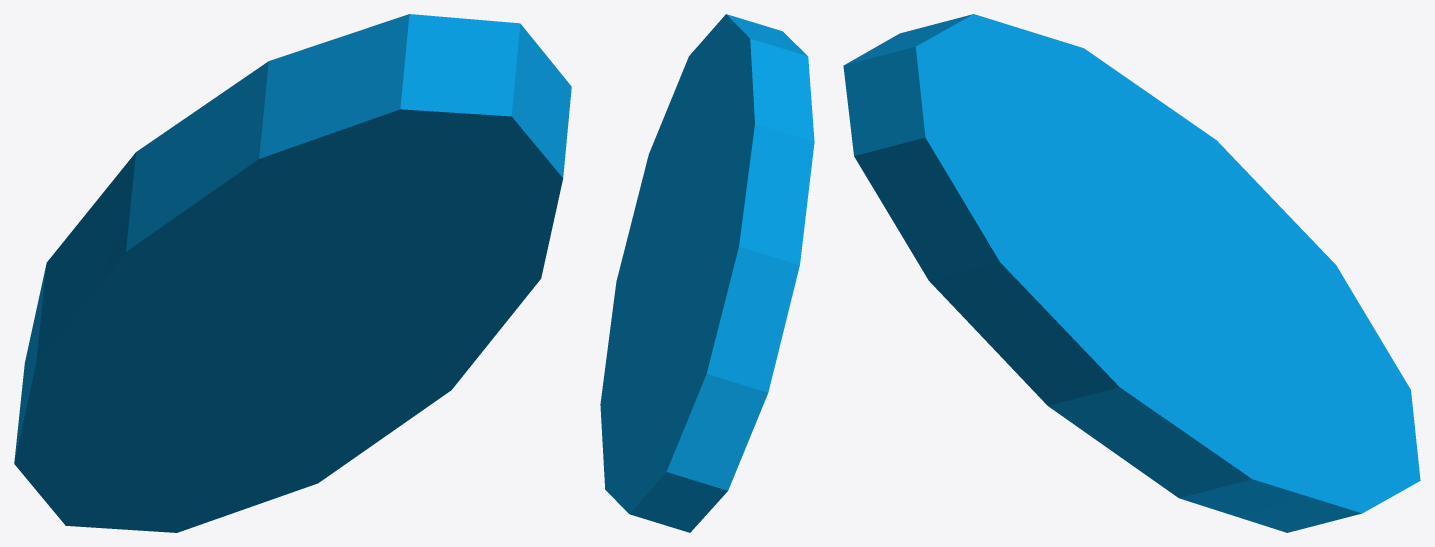
The model's file is astronaut_spawn_group524469484_lev4.glb.
3 renders of one model, left to right at view 1: azimuth 30°, elevation 25°; view 2: azimuth 150°, elevation 25°; view 3: azimuth 270°, elevation 25°, orthographic. The views are drawn at different scales.
Parts seen in each view (by area): view 1: astronaut_spawn_group524469484_lev4; view 2: astronaut_spawn_group524469484_lev4; view 3: astronaut_spawn_group524469484_lev4.
Part boxes in pixels (bbox=[...]): astronaut_spawn_group524469484_lev4: bbox=[14, 14, 571, 532]; astronaut_spawn_group524469484_lev4: bbox=[600, 14, 814, 532]; astronaut_spawn_group524469484_lev4: bbox=[843, 14, 1420, 532].
Size of the model in its own units: 0.1422 by 0.2452 by 0.239.
